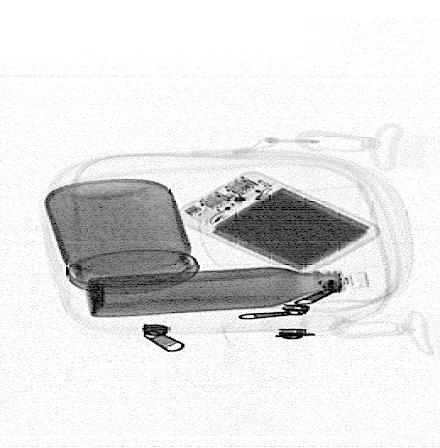Powerbank: (173, 171, 383, 275)
